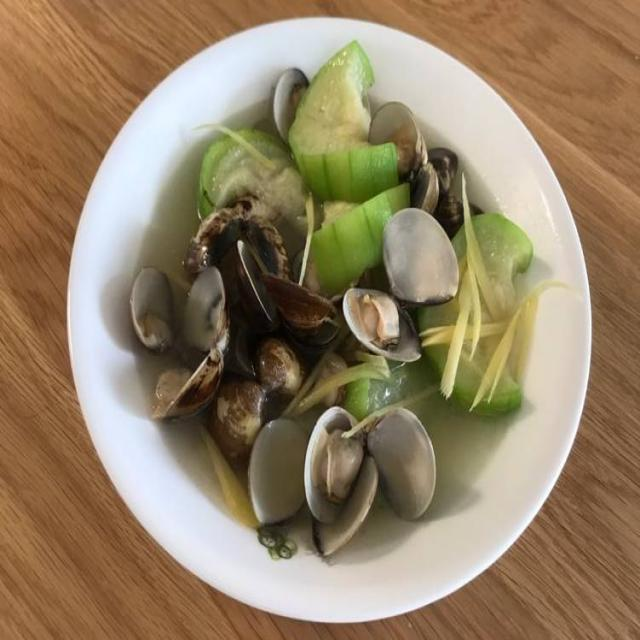Wet: (164, 82, 514, 536)
